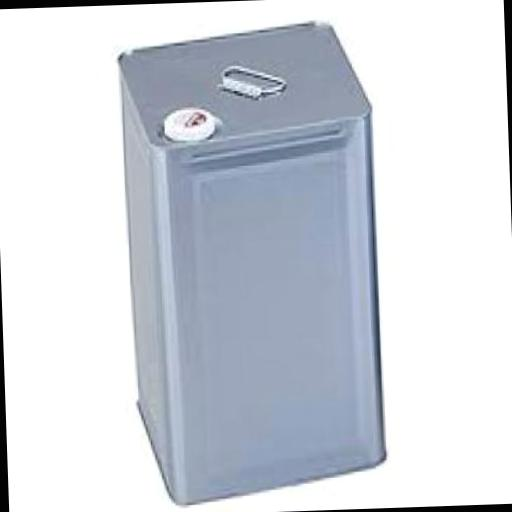metal: (114, 15, 388, 504)
